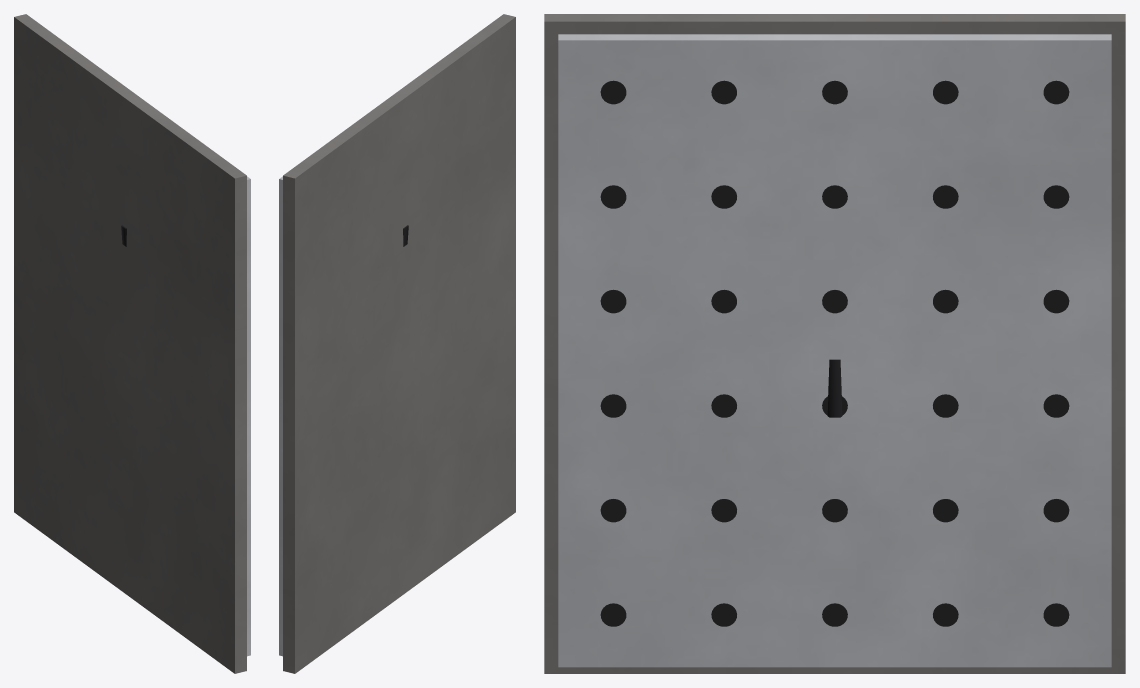
The model's file is aero07_airbrake_m.glb.
3 renders of one model, left to right at view 1: azimuth 30°, elevation 25°; view 2: azimuth 150°, elevation 25°; view 3: azimuth 270°, elevation 25°, orthographic. The views are drawn at different scales.
Visible parts, largest first — view 1: base_frame, panel_brake; view 2: base_frame, panel_brake; view 3: panel_brake, base_frame, panel_perforations.
Part boxes in pixels (box(x1,y1,x2,y2)): base_frame: box(14, 14, 246, 673); panel_brake: box(247, 176, 250, 656); base_frame: box(283, 14, 515, 673); panel_brake: box(279, 176, 282, 656); panel_brake: box(558, 34, 1111, 667); base_frame: box(544, 14, 1125, 673); panel_perforations: box(600, 80, 1069, 626).
Bounding box in the file's own units: 0.0829 × 1.56 × 1.26.
3 materials, 2 textured.
